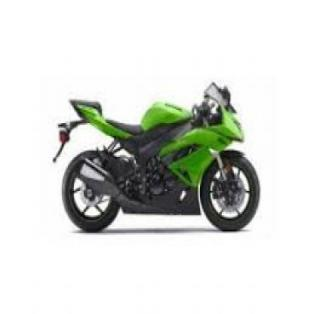Motocicleta: (52, 72, 270, 237)
